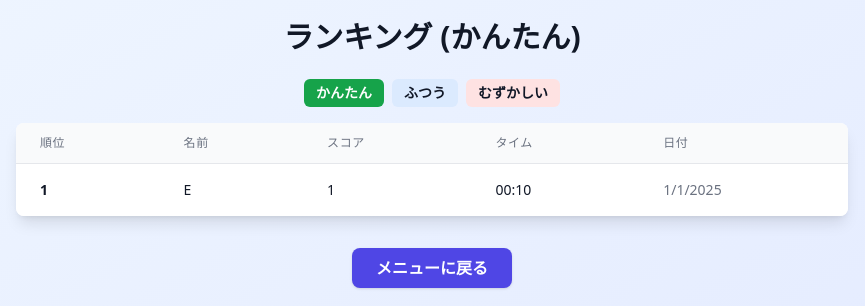
Test: RankingScreen - difficulty tabs › updates heading difficulty label on tab change
This screenshot has width=865, height=306.
Check: the heading "ランキング (かんたん)" is shown, box [283,16,581,57]
Note: change to normal
Click the button "ふつう" at (425,93), box [392,79,458,107]
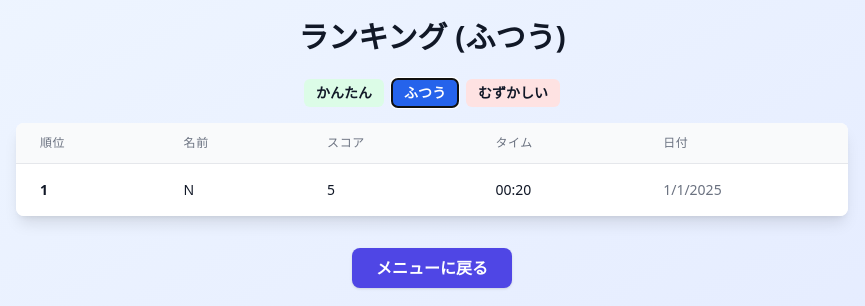
Check: the heading "ランキング (ふつう)" is shown, box [298,16,566,57]
